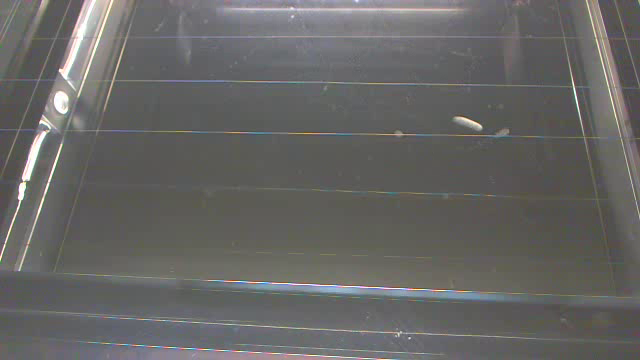alpha: (450, 113, 485, 134), (489, 126, 515, 142), (389, 126, 405, 140)
